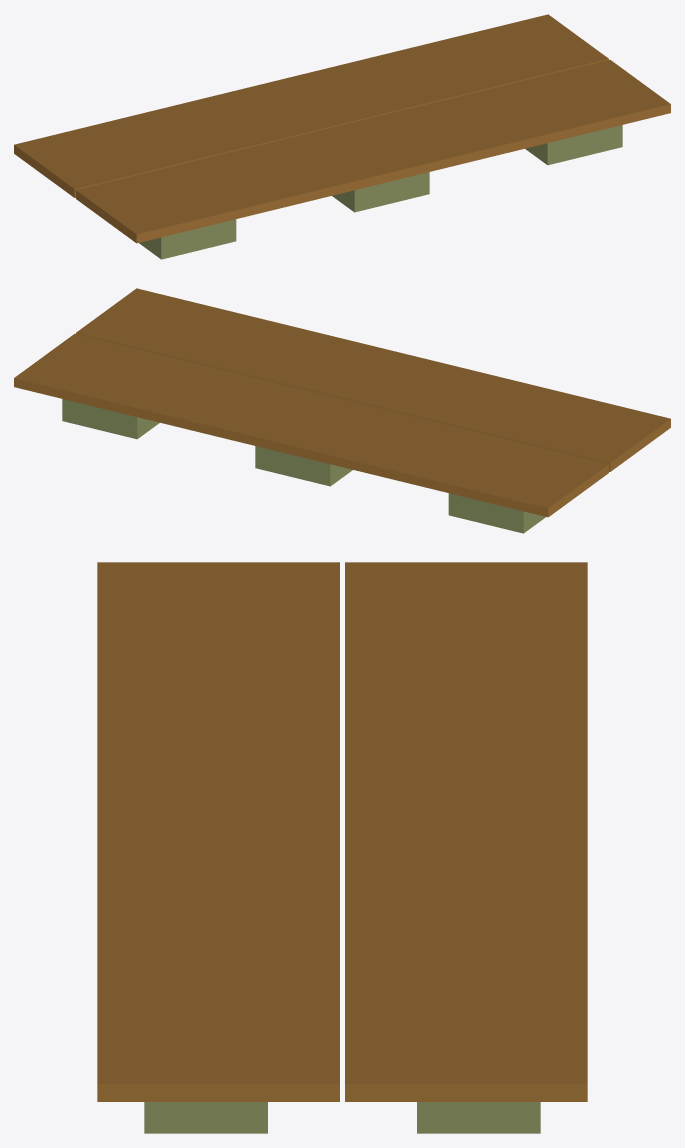
Rendered from SM_Banqueta_v2_LOD1.fbx.
3 views of the same model, one above another, from view 1: azimuth 30°, elevation 25°; view 2: azimuth 150°, elevation 25°; view 3: azimuth 270°, elevation 25° (orthographic). The views are drawn at different scales.
Parts seen in each view (by area): view 1: SM_banqueta_tiro_v2_LOD1; view 2: SM_banqueta_tiro_v2_LOD1; view 3: SM_banqueta_tiro_v2_LOD1.
Part boxes in pixels (x1,y1,x2,y2): SM_banqueta_tiro_v2_LOD1: [14, 14, 670, 259]; SM_banqueta_tiro_v2_LOD1: [14, 288, 670, 533]; SM_banqueta_tiro_v2_LOD1: [97, 562, 587, 1133].
Bounding box in the file's own units: 4.98 × 0.38 × 1.98.
